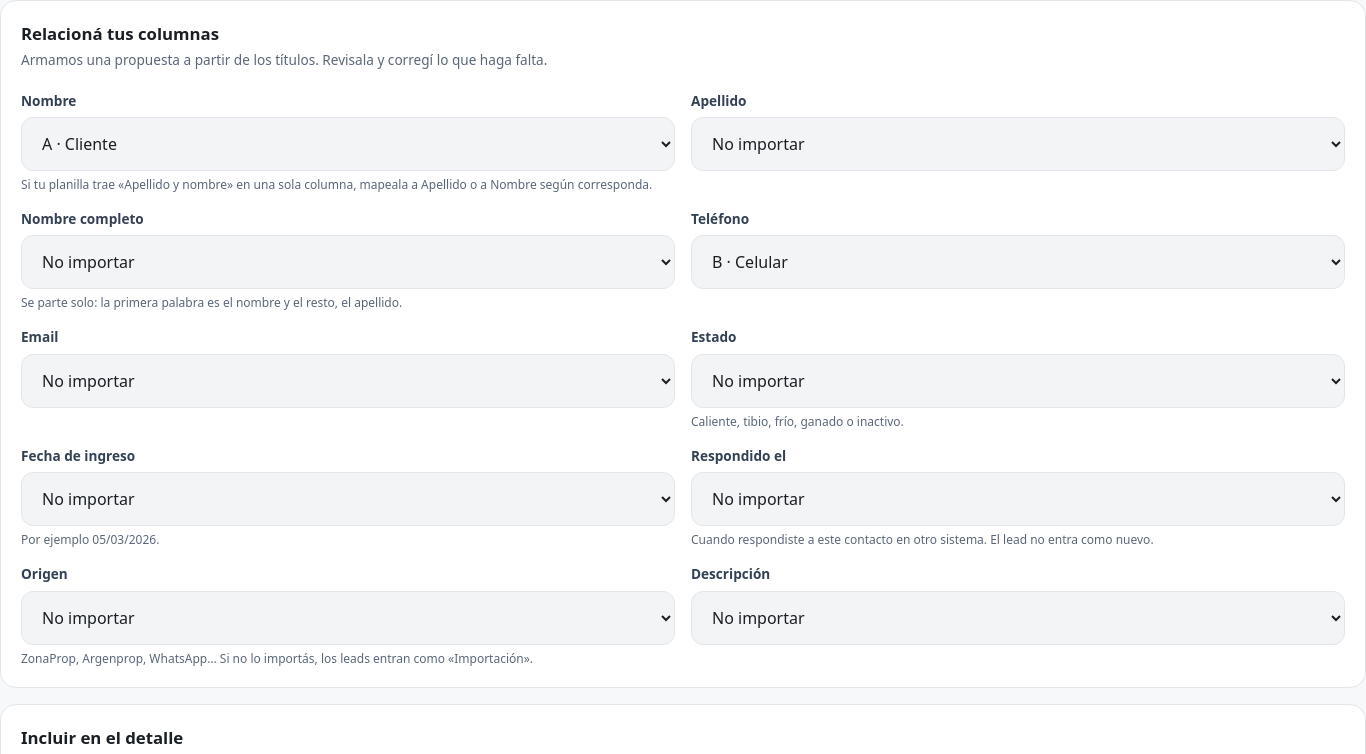
Test case: PasoColumnas › una columna no queda en dos campos: moverla se la saca al anterior
Select "B · Celular" in the dropdown labelled "Email" at (348, 381), box x1=21 y1=354 x2=675 y2=408
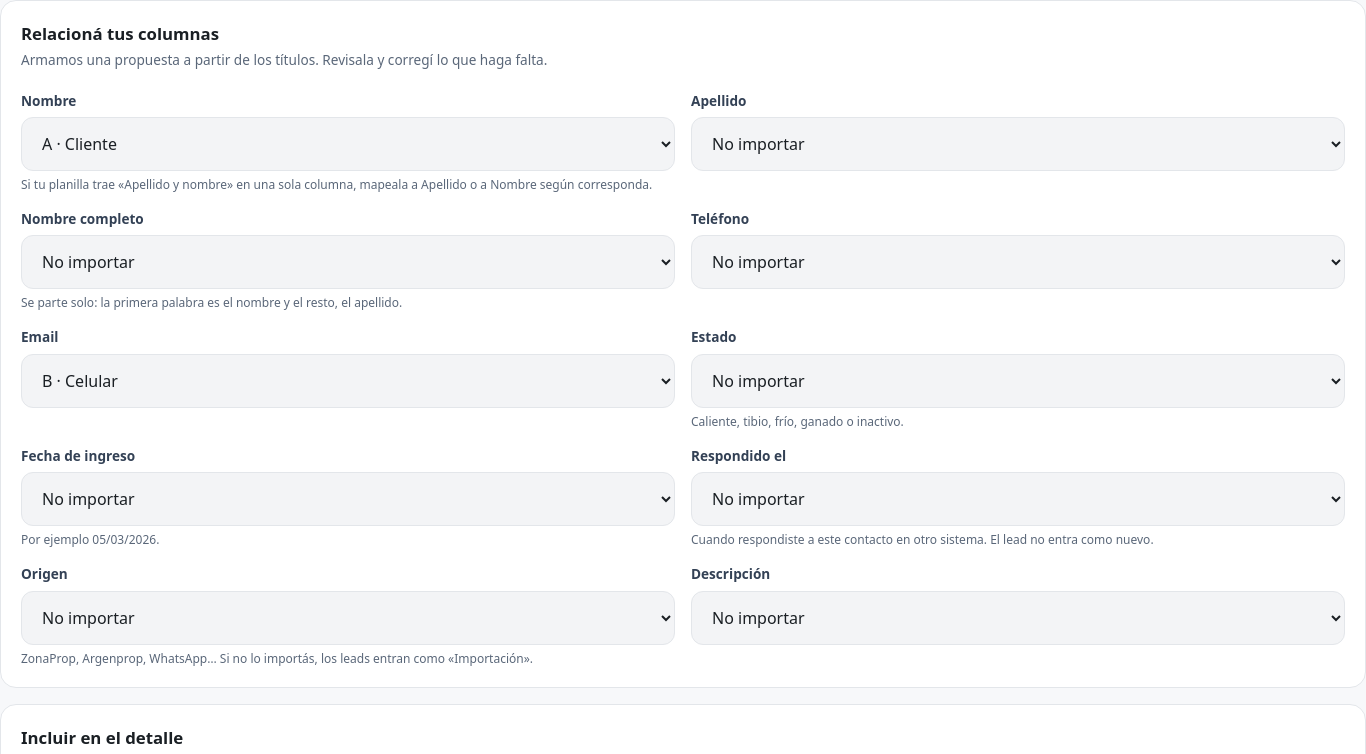
Expected: the dropdown labelled "Teléfono" shows "No importar", x1=691 y1=235 x2=1345 y2=289
